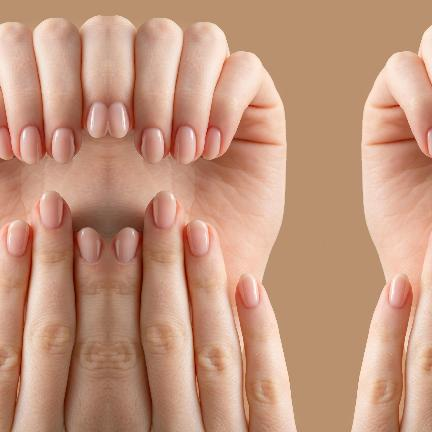Nail: (153, 191, 177, 229), (39, 191, 63, 229), (115, 228, 139, 263), (77, 228, 101, 263), (174, 126, 196, 164), (20, 126, 42, 164), (187, 220, 209, 257), (7, 220, 29, 257), (141, 128, 164, 163), (52, 128, 75, 163), (238, 273, 259, 309), (108, 102, 129, 138), (389, 273, 410, 309), (87, 102, 108, 138), (202, 127, 221, 160), (0, 127, 14, 160), (427, 128, 432, 158)
